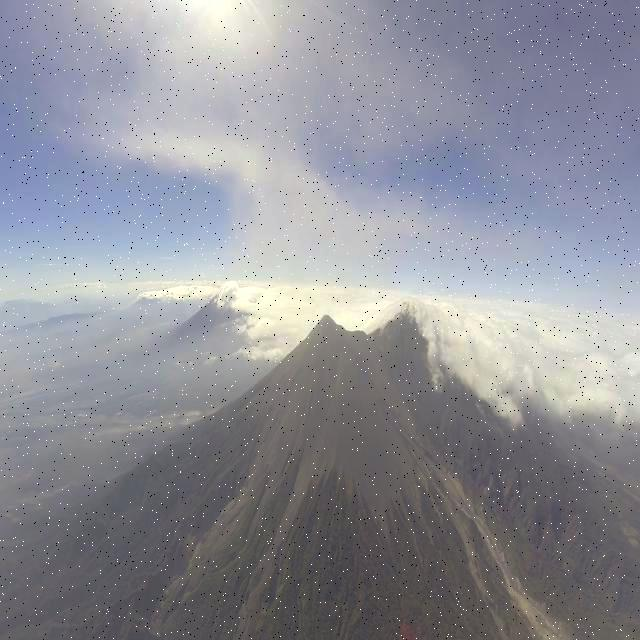Summit: (304, 311, 348, 344)
